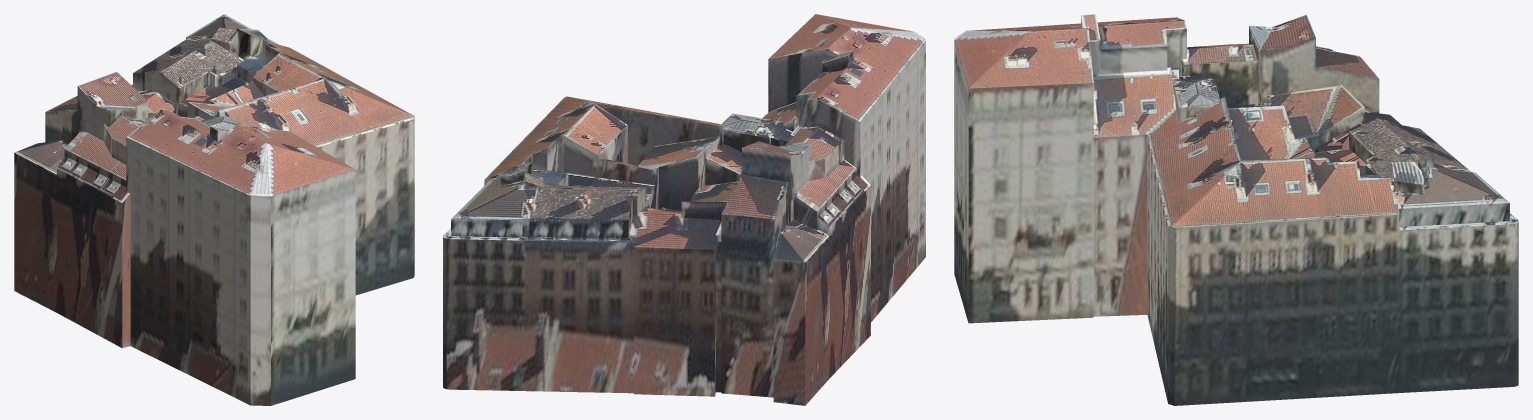
The model's file is LYON_1ER_00106.dae.
3 views of the same model, side by side, from view 1: azimuth 30°, elevation 25°; view 2: azimuth 150°, elevation 25°; view 3: azimuth 270°, elevation 25° (orthographic). The views are drawn at different scales.
Size of the model in its own units: 43.04 by 59.32 by 30.25.
2 materials, 2 textured.
